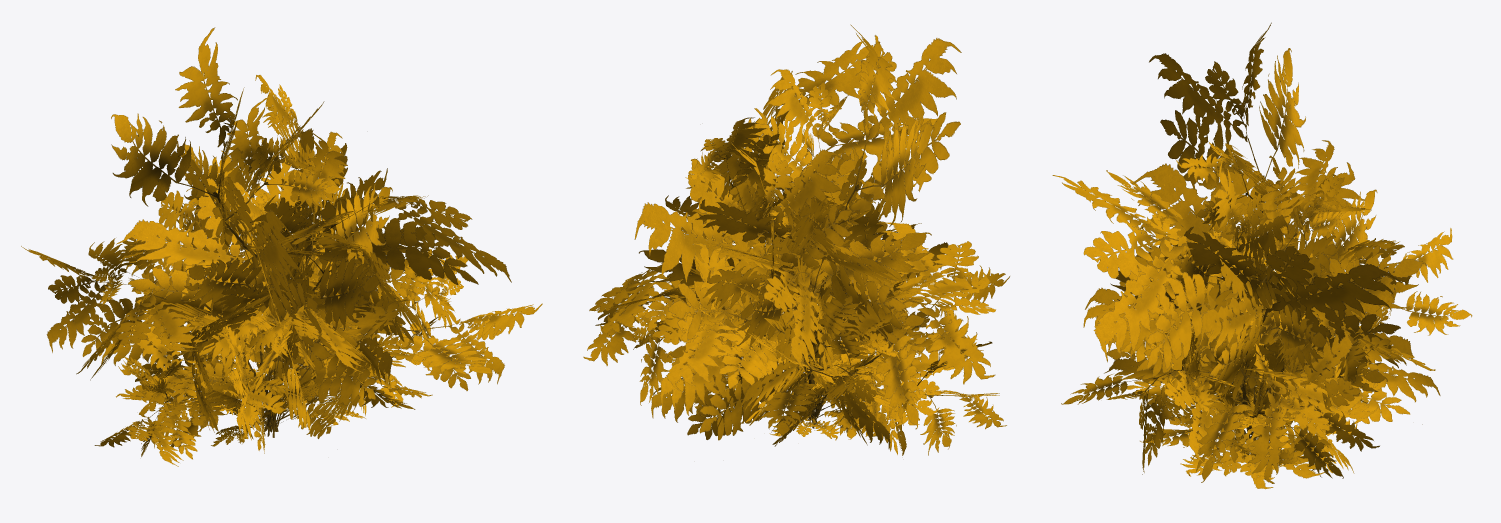
File: shrub.glb
3 views of the same model, side by side, from view 1: azimuth 30°, elevation 25°; view 2: azimuth 150°, elevation 25°; view 3: azimuth 270°, elevation 25° (orthographic). The views are drawn at different scales.
Parts seen in each view (by area): view 1: stk_autumnSmallBush_a.png__; view 2: stk_autumnSmallBush_a.png__; view 3: stk_autumnSmallBush_a.png__.
Boxes of the visible parts, x1,y1,x2,y2 form: stk_autumnSmallBush_a.png__: (21,27,542,466); stk_autumnSmallBush_a.png__: (583,24,1009,455); stk_autumnSmallBush_a.png__: (1052,22,1472,489).
Size of the model in its own units: 3.88 by 4.41 by 3.86.
1 material, 1 textured.
